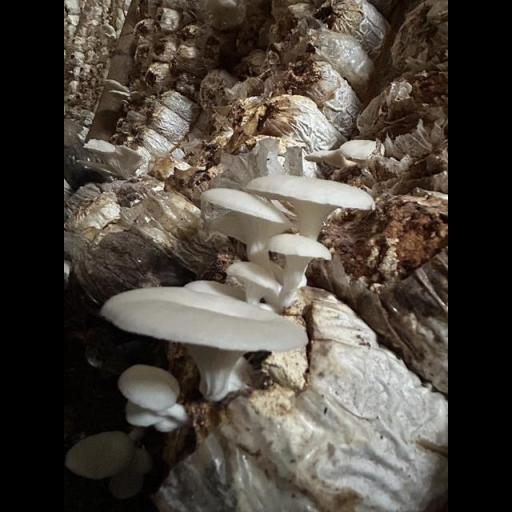White Oyster Mushroom: (101, 167, 379, 431)
